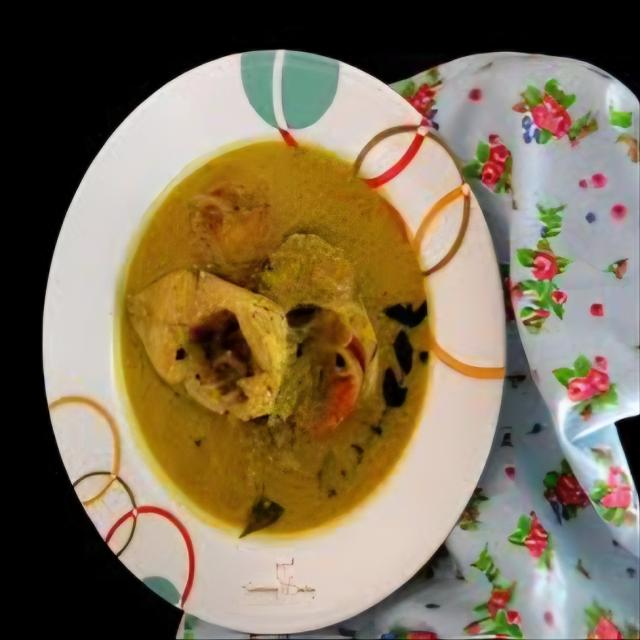FISH CURRY: (117, 131, 417, 522)
